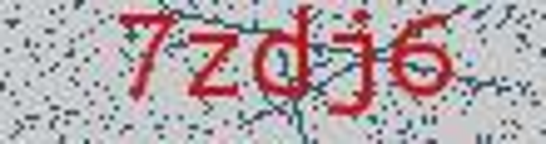6: (387, 3, 459, 104)
7: (106, 6, 178, 114)
d: (252, 2, 318, 108)
j: (323, 6, 380, 122)
z: (184, 24, 242, 103)
